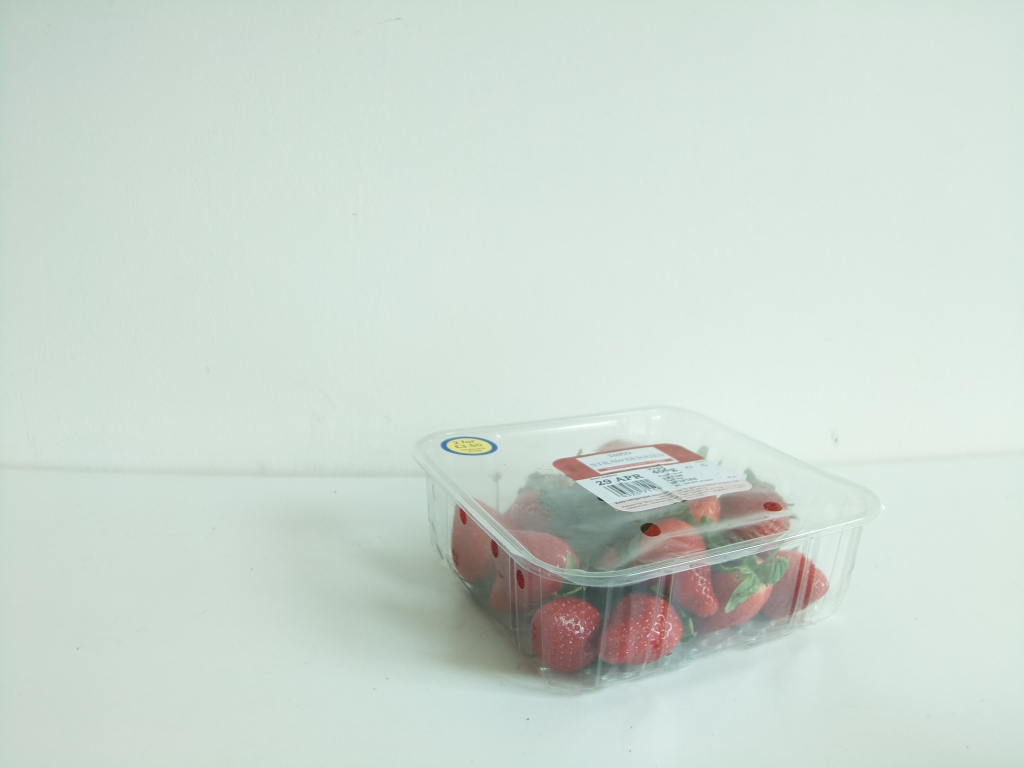soft-fruit: (410, 405, 880, 694)
